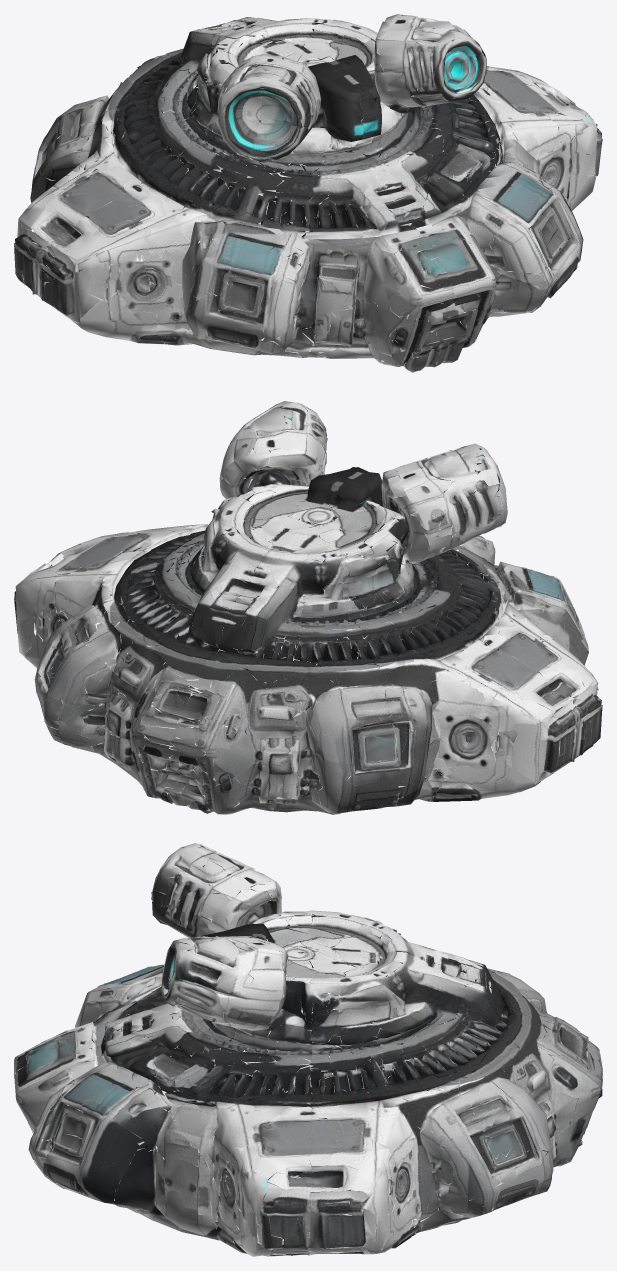
Rendered from filter.glb.
The picture shows the model from 3 angles, top to bottom: view 1: azimuth 30°, elevation 25°; view 2: azimuth 150°, elevation 25°; view 3: azimuth 270°, elevation 25°; orthographic projection.
Visible parts, largest first — view 1: Mesh_0; view 2: Mesh_0; view 3: Mesh_0.
Boxes of the visible parts, bbox=[...] form: Mesh_0: bbox=[14, 14, 602, 372]; Mesh_0: bbox=[14, 401, 602, 814]; Mesh_0: bbox=[14, 843, 602, 1256].
Bounding box in the file's own units: 1.9 × 0.9888 × 1.77.
Materials: 1 (1 with a texture image).
